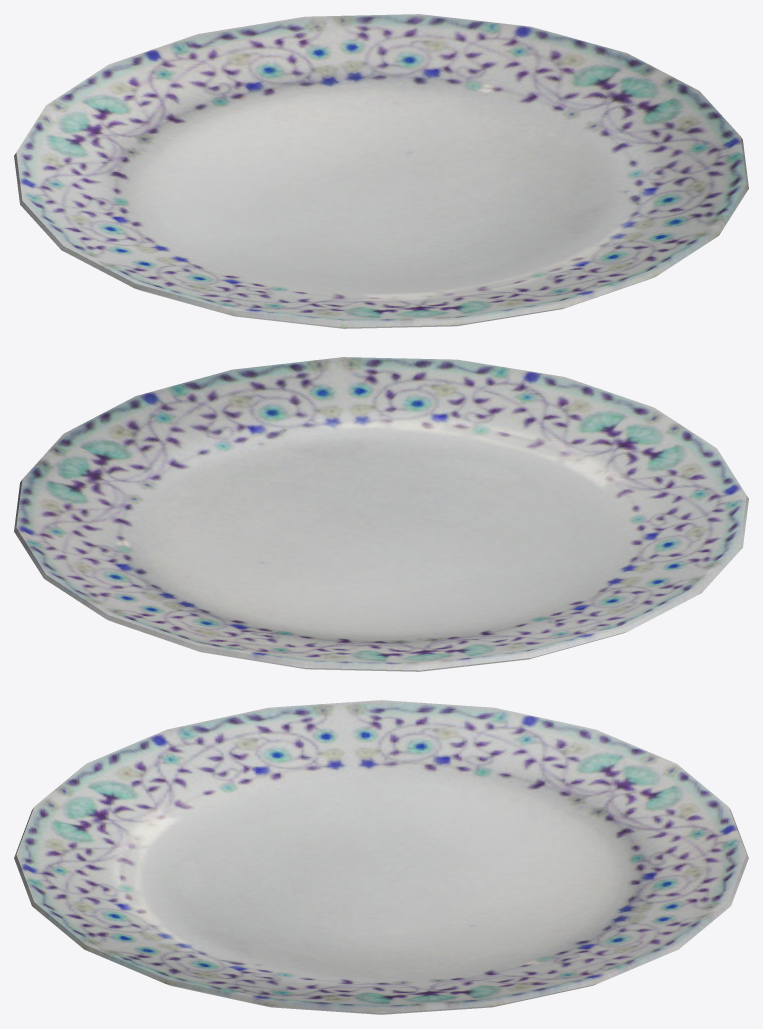
File: dish_B_c02.fbx
The picture shows the model from 3 angles, top to bottom: view 1: azimuth 30°, elevation 25°; view 2: azimuth 150°, elevation 25°; view 3: azimuth 270°, elevation 25°; orthographic projection.
Visible parts, largest first — view 1: dish_B_c02; view 2: dish_B_c02; view 3: dish_B_c02.
Part boxes in pixels (x1,y1,x2,y2): dish_B_c02: (14,14,748,328); dish_B_c02: (14,357,748,671); dish_B_c02: (14,700,748,1014).
Bounding box in the file's own units: 8.58 × 0.7795 × 8.58.
Materials: 1 (1 with a texture image).
